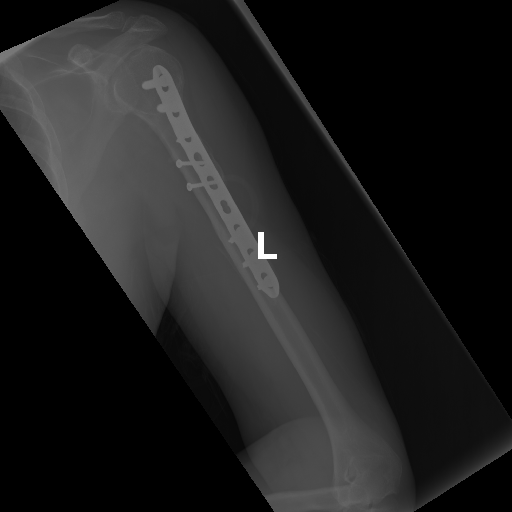implant: (137, 64, 280, 299)
